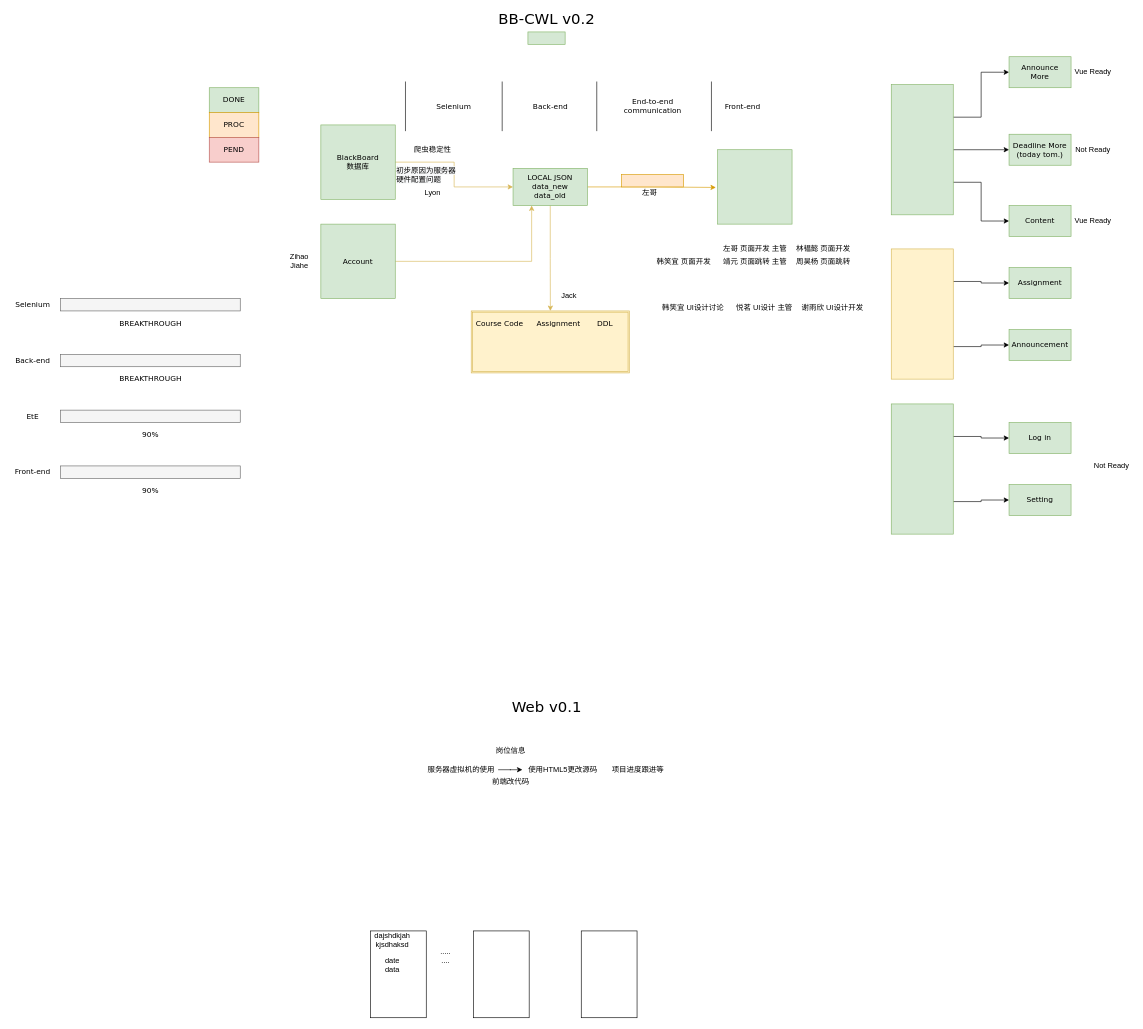
This 1143x1029 diagram has some shape labels left out. The shapes that lost their labels are listed below. From the top down, each one's centre as x and y in pixels, then its label:
point (546, 37): 自由选课
point (922, 149): Index
point (652, 180): 每30m自动抓取
point (754, 186): 前端 Vue.js
point (922, 313): Course
point (922, 468): My
